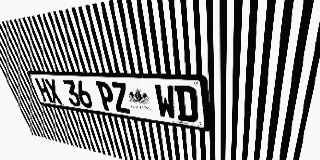3: (62, 79, 82, 107)
6: (74, 80, 94, 109)
D: (174, 85, 198, 123)
H: (35, 78, 53, 103)
P: (95, 81, 117, 112)
W: (154, 84, 177, 120)
X: (44, 79, 63, 104)
Z: (110, 82, 132, 114)
